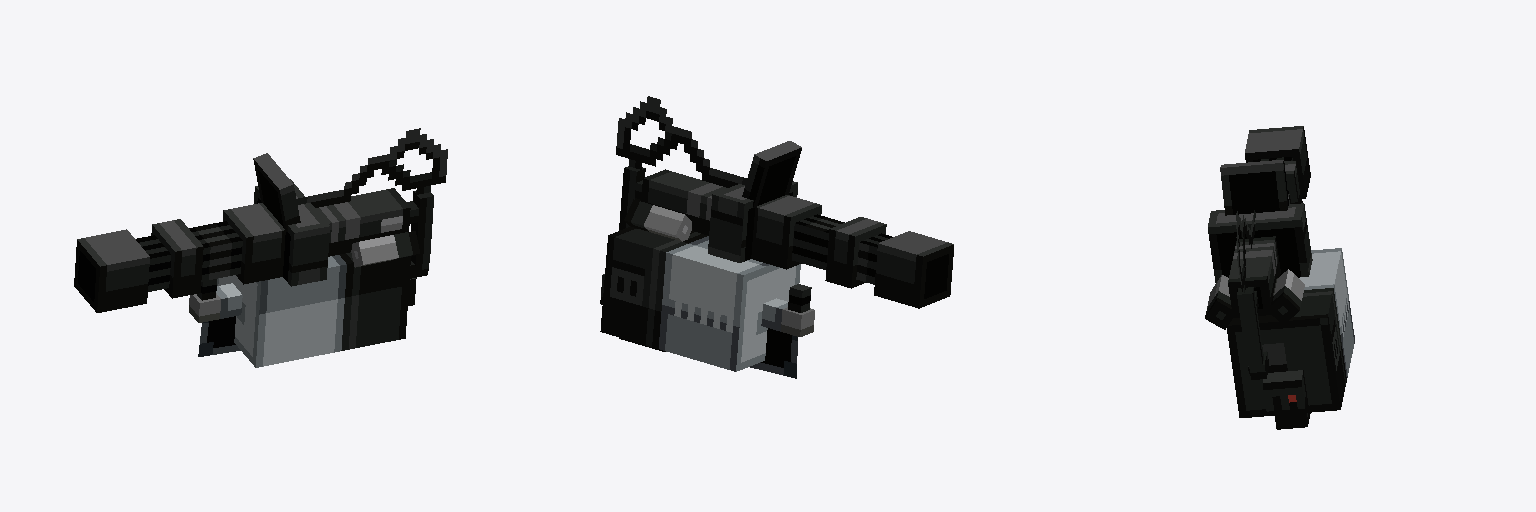
3 renders of one model, left to right at view 1: azimuth 30°, elevation 25°; view 2: azimuth 150°, elevation 25°; view 3: azimuth 270°, elevation 25°, orthographic.
Parts seen in each view (by area): view 1: cube; view 2: cube; view 3: cube.
Boxes of the visible parts, x1=… form: cube: x1=74, y1=128, x2=447, y2=367; cube: x1=600, y1=96, x2=953, y2=378; cube: x1=1205, y1=126, x2=1354, y2=429.
Bounding box in the file's own units: 2.35 × 1.43 × 0.8949.
2 materials, 2 textured.